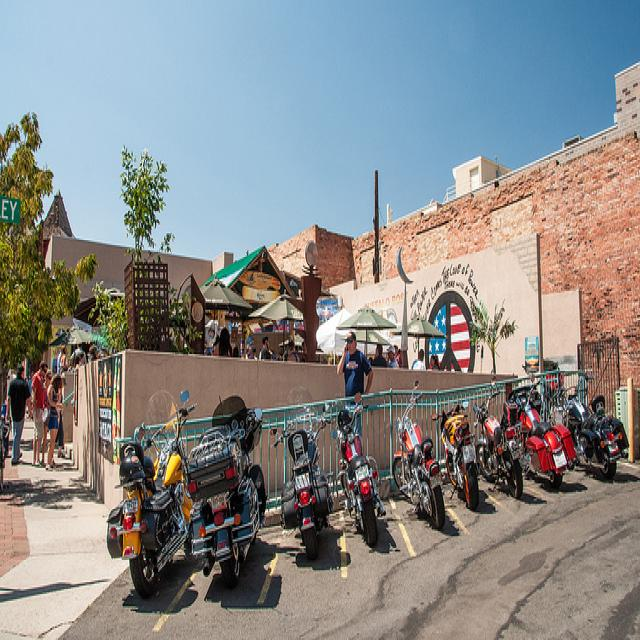motor: (109, 390, 197, 600), (185, 392, 266, 586), (268, 416, 334, 567), (391, 381, 446, 531), (551, 375, 629, 479), (515, 374, 579, 488), (335, 398, 381, 548), (468, 389, 525, 507), (430, 401, 480, 510)
